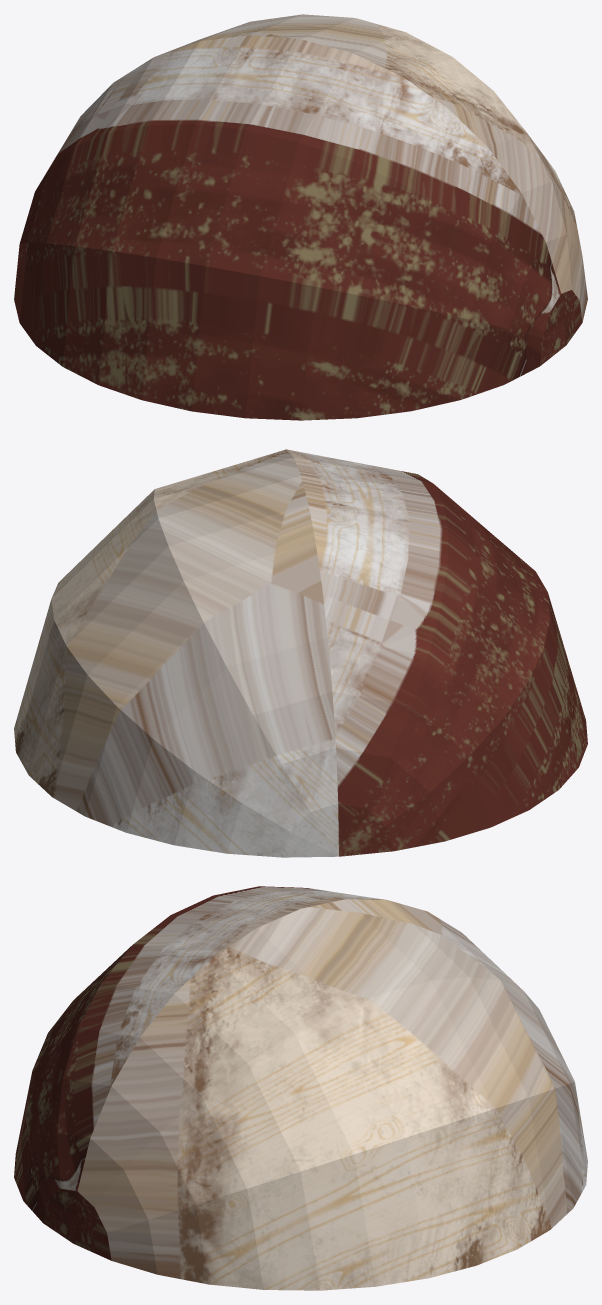
Rendered from bijou_001.fbx.
The picture shows the model from 3 angles, top to bottom: view 1: azimuth 30°, elevation 25°; view 2: azimuth 150°, elevation 25°; view 3: azimuth 270°, elevation 25°; orthographic projection.
Parts seen in each view (by area): view 1: bijou.001; view 2: bijou.001; view 3: bijou.001.
Boxes of the visible parts, x1,y1,x2,y2 form: bijou.001: (14, 14, 587, 420); bijou.001: (14, 449, 587, 857); bijou.001: (14, 886, 587, 1290).
Bounding box in the file's own units: 8.99 × 4.51 × 8.99.
